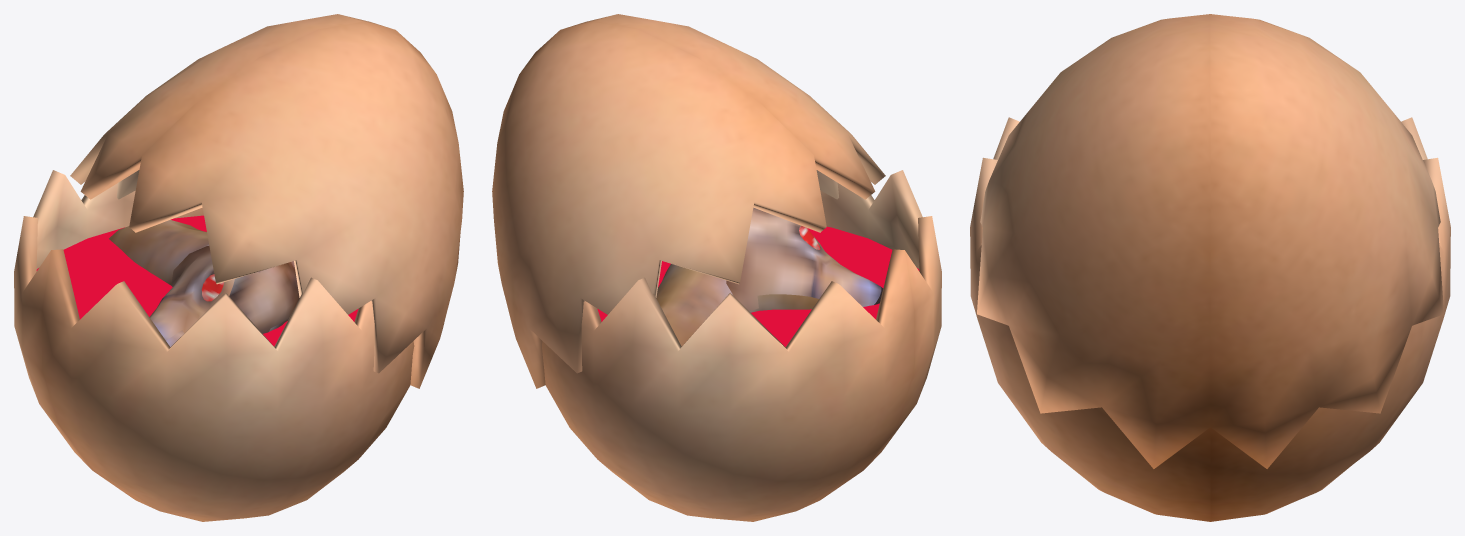
The model's file is egg_broken.glb.
The picture shows the model from 3 angles, left to right: view 1: azimuth 30°, elevation 25°; view 2: azimuth 150°, elevation 25°; view 3: azimuth 270°, elevation 25°; orthographic projection. The views are drawn at different scales.
Parts seen in each view (by area): view 1: egg; view 2: egg; view 3: egg.
Part boxes in pixels (left/top/right/bottom): egg: left=14, top=14, right=463, bottom=521; egg: left=492, top=14, right=941, bottom=521; egg: left=970, top=14, right=1450, bottom=521.
Size of the model in its own units: 0.752 by 0.8139 by 0.6699.
1 material, 1 textured.
